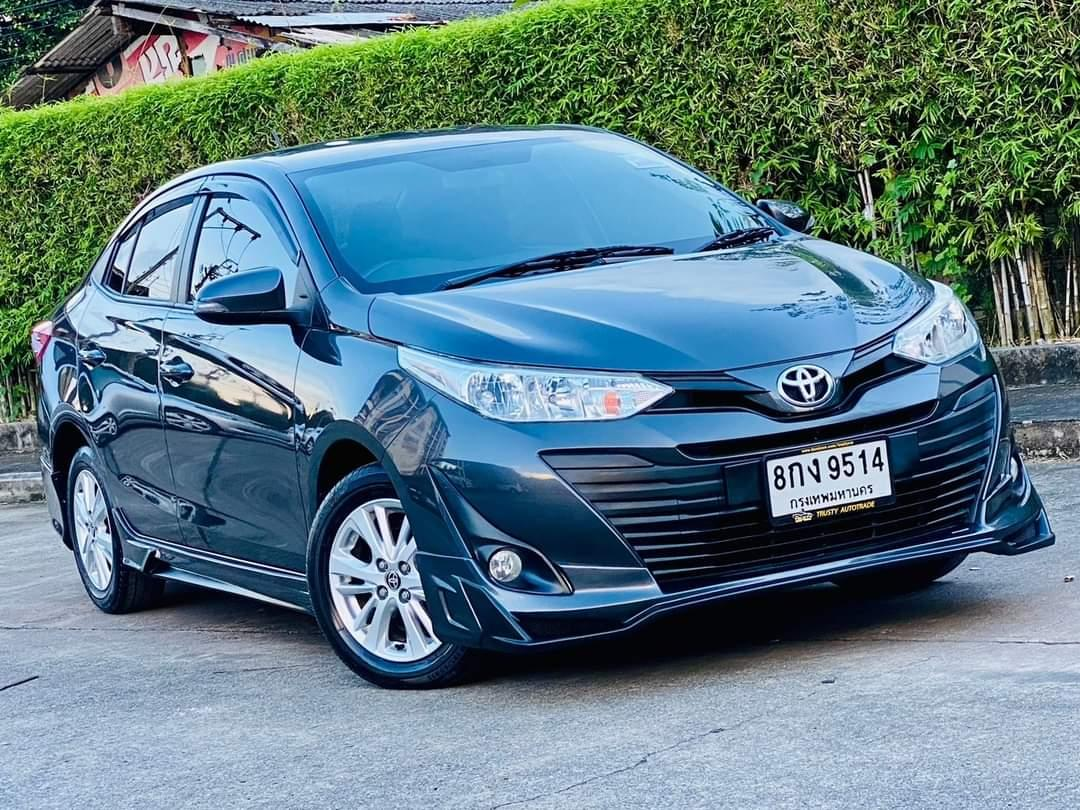license-plate: (754, 432, 900, 528)
